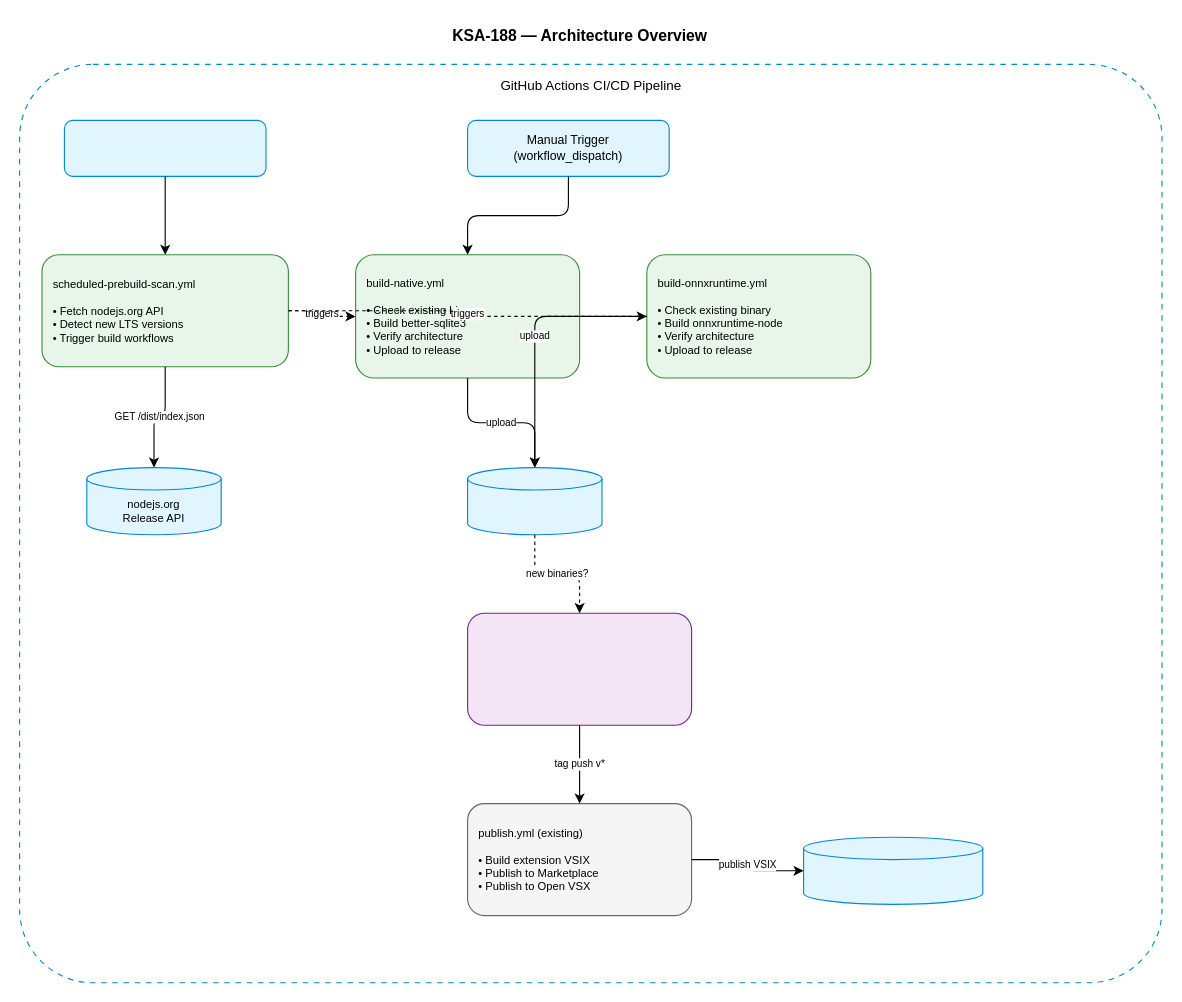
This 1182x1002 diagram has some shape labels left out. Each missing label, with the centre of its shape:
auto-release.yml • Check new binaries • Bump patch version • Commit + tag + push: (x=579, y=668)
Cron Schedule (Monday 00:00 UTC): (x=164, y=147)
GitHub Releases: (x=534, y=500)
VS Code Marketplace + Open VSX: (x=892, y=870)
